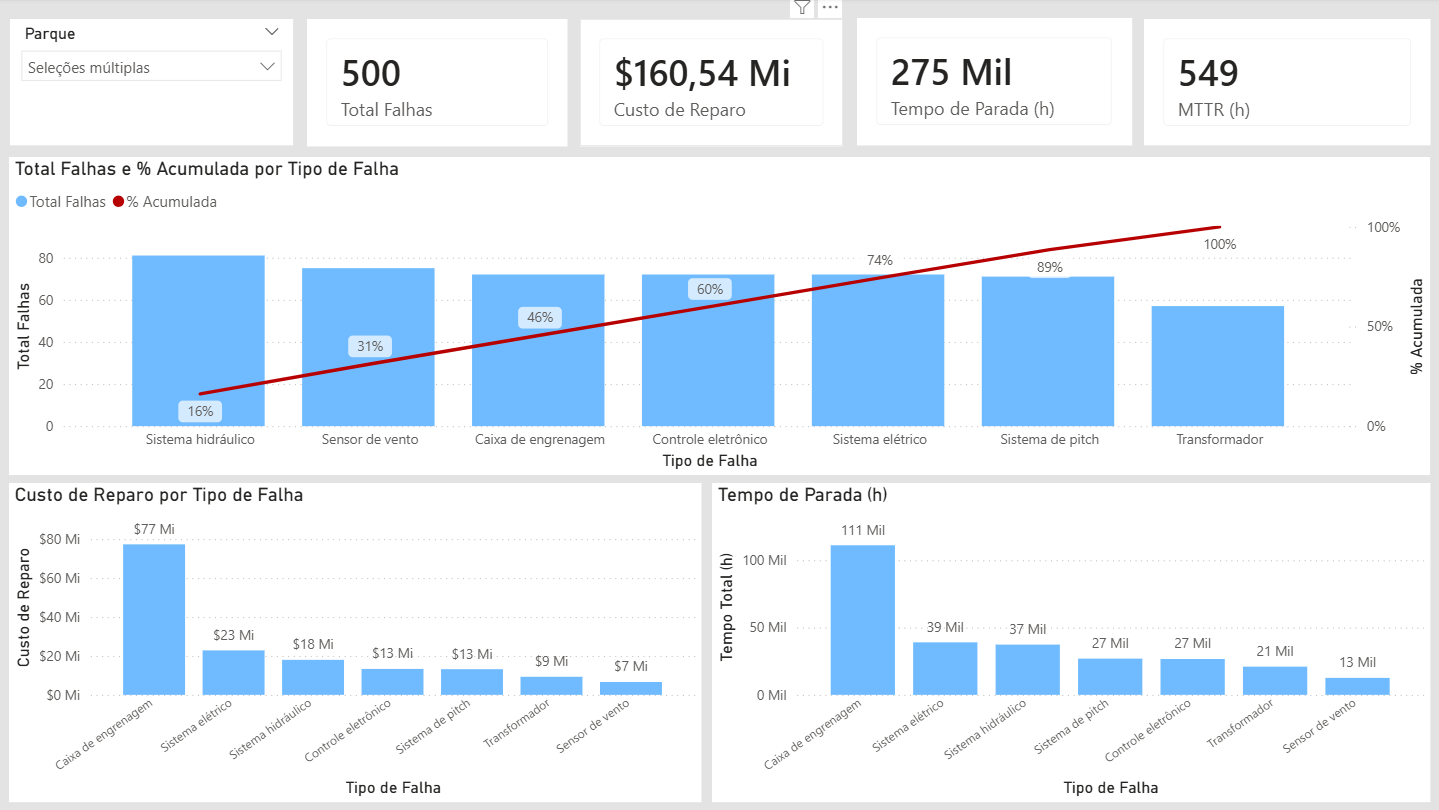

Layout of this report page (visuals, bound fields, positions):
{"tool":"powerbi","page":{"name":"Visão Executiva","canvas":[1280,720],"ordinal":0},"visuals":[{"type":"slicer","fields":{"Values":["base_manutencao_aerogeradores_powerbi.Parque"]},"box":[11.1,18.9,251.1,112.2],"z":0},{"type":"cardVisual","fields":{"Data":["Sum(base_manutencao_aerogeradores_powerbi.Custo_Reparo)"]},"box":[516.9,18.6,233.2,112.6],"z":1000},{"type":"cardVisual","fields":{"Data":["Sum(base_manutencao_aerogeradores_powerbi.Tempo_Parada_h)"]},"box":[762.6,17.7,243.8,112.6],"z":2000},{"type":"cardVisual","fields":{"Data":["base_manutencao_aerogeradores_powerbi.Total Falhas"]},"box":[274.9,18.6,231.4,112.6],"z":3000},{"type":"cardVisual","fields":{"Data":["base_manutencao_aerogeradores_powerbi.MTTR","base_manutencao_aerogeradores_powerbi.MTTR"]},"box":[1016.7,18.9,254.4,112.2],"z":4000},{"type":"columnChart","fields":{"Y":["Sum(base_manutencao_aerogeradores_powerbi.Custo_Reparo)"],"Category":["base_manutencao_aerogeradores_powerbi.Tipo_Falha"]},"box":[10.6,430,613.6,282.9],"z":5000},{"type":"columnChart","title":"Tempo de Parada (h)","fields":{"Y":["base_manutencao_aerogeradores_powerbi.Tempo Total Parada"],"Category":["base_manutencao_aerogeradores_powerbi.Tipo_Falha"]},"box":[634,430,636.7,282.9],"z":6000},{"type":"lineStackedColumnComboChart","fields":{"Category":["base_manutencao_aerogeradores_powerbi.Tipo_Falha"],"Y":["base_manutencao_aerogeradores_powerbi.Total Falhas"],"Y2":["Resumo_Falhas.% Acumulada Pareto"]},"box":[10.6,141,1260,282],"z":8000}]}

Visuals, with their boxes in screenshot pixels (x1, y1, x2, y2), scaled from the page's 1280x720 canvas onto the 1439x810 screenshot:
slicer - base_manutencao_aerogeradores_powerbi.Parque: {"x1": 12, "y1": 21, "x2": 295, "y2": 147}
cardVisual - Sum(base_manutencao_aerogeradores_powerbi.Custo_Reparo): {"x1": 581, "y1": 21, "x2": 843, "y2": 148}
cardVisual - Sum(base_manutencao_aerogeradores_powerbi.Tempo_Parada_h): {"x1": 857, "y1": 20, "x2": 1131, "y2": 147}
cardVisual - base_manutencao_aerogeradores_powerbi.Total Falhas: {"x1": 309, "y1": 21, "x2": 569, "y2": 148}
cardVisual - base_manutencao_aerogeradores_powerbi.MTTR x base_manutencao_aerogeradores_powerbi.MTTR: {"x1": 1143, "y1": 21, "x2": 1429, "y2": 147}
columnChart - Sum(base_manutencao_aerogeradores_powerbi.Custo_Reparo) x base_manutencao_aerogeradores_powerbi.Tipo_Falha: {"x1": 12, "y1": 484, "x2": 702, "y2": 802}
"Tempo de Parada (h)" columnChart: {"x1": 713, "y1": 484, "x2": 1429, "y2": 802}
lineStackedColumnComboChart - base_manutencao_aerogeradores_powerbi.Tipo_Falha x base_manutencao_aerogeradores_powerbi.Total Falhas: {"x1": 12, "y1": 159, "x2": 1428, "y2": 476}
